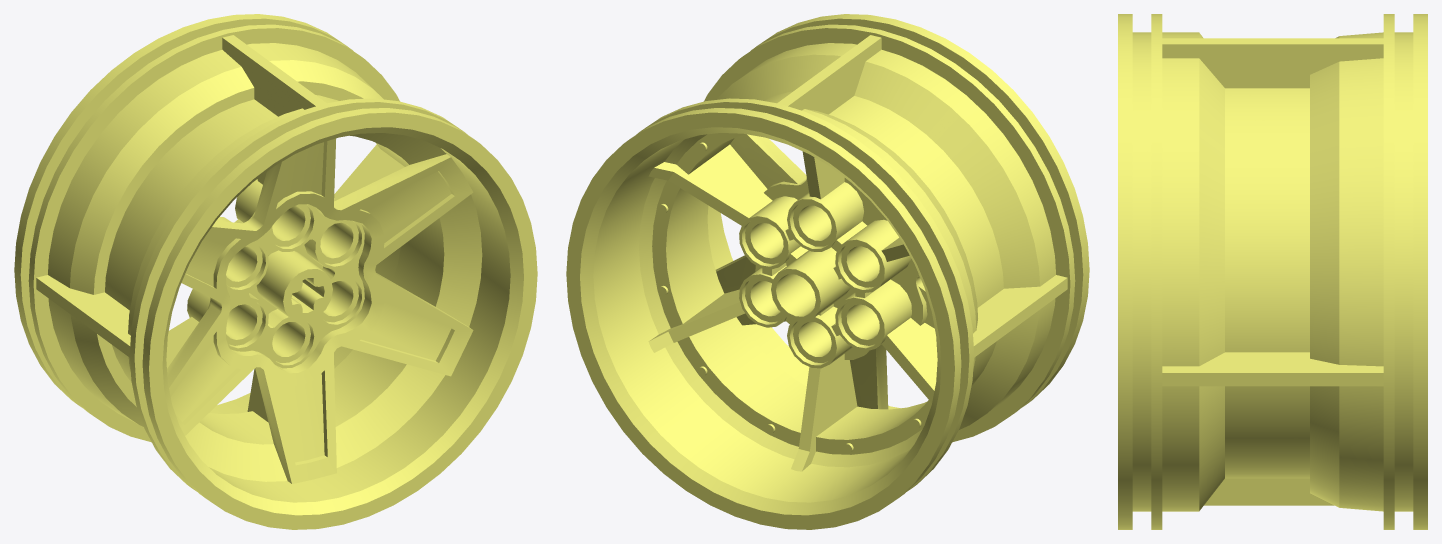
3 renders of one model, left to right at view 1: azimuth 30°, elevation 25°; view 2: azimuth 150°, elevation 25°; view 3: azimuth 270°, elevation 25°, orthographic. The views are drawn at different scales.
Parts seen in each view (by area): view 1: 15038.dat; view 2: 15038.dat; view 3: 15038.dat.
Boxes of the visible parts, x1=… form: 15038.dat: x1=14, y1=14, x2=537, y2=529; 15038.dat: x1=566, y1=14, x2=1089, y2=529; 15038.dat: x1=1118, y1=14, x2=1427, y2=529.
Bounding box in the file's own units: 0.056 × 0.056 × 0.0336.
